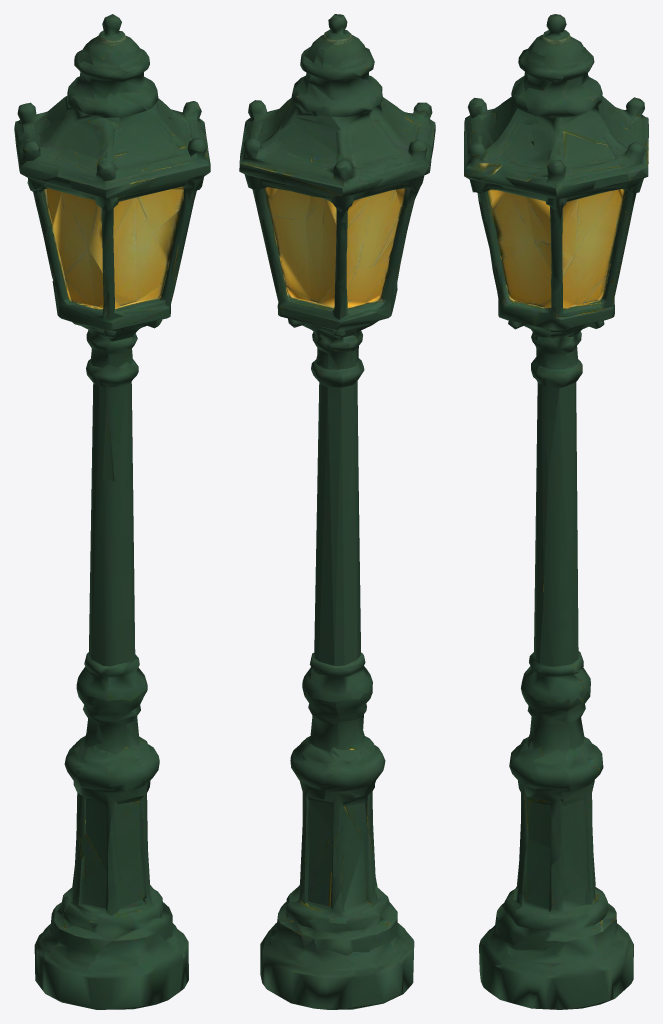
The model's file is getkong-laterne.glb.
The picture shows the model from 3 angles, left to right: view 1: azimuth 30°, elevation 25°; view 2: azimuth 150°, elevation 25°; view 3: azimuth 270°, elevation 25°; orthographic projection.
Parts seen in each view (by area): view 1: output_unwrapped; view 2: output_unwrapped; view 3: output_unwrapped.
Boxes of the visible parts, x1=… form: output_unwrapped: x1=14, y1=14, x2=210, y2=1009; output_unwrapped: x1=239, y1=14, x2=435, y2=1009; output_unwrapped: x1=464, y1=14, x2=648, y2=1009.
Bounding box in the file's own units: 0.3803 × 1.9 × 0.3305.
1 material, 1 textured.
